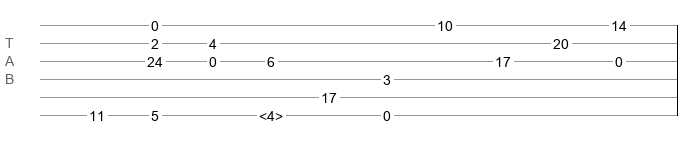0: (151, 18, 159, 28), (209, 54, 217, 64), (383, 108, 391, 118), (615, 54, 623, 64)
10: (437, 18, 453, 28)
11: (89, 108, 105, 118)
14: (611, 18, 627, 28)
17: (321, 90, 337, 100), (495, 54, 511, 64)
2: (151, 36, 159, 46)
20: (553, 36, 569, 46)
24: (147, 54, 163, 64)
3: (383, 72, 391, 82)
4: (209, 36, 217, 46)
5: (151, 108, 159, 118)
6: (267, 54, 275, 64)
harmonic: (259, 108, 283, 118)
